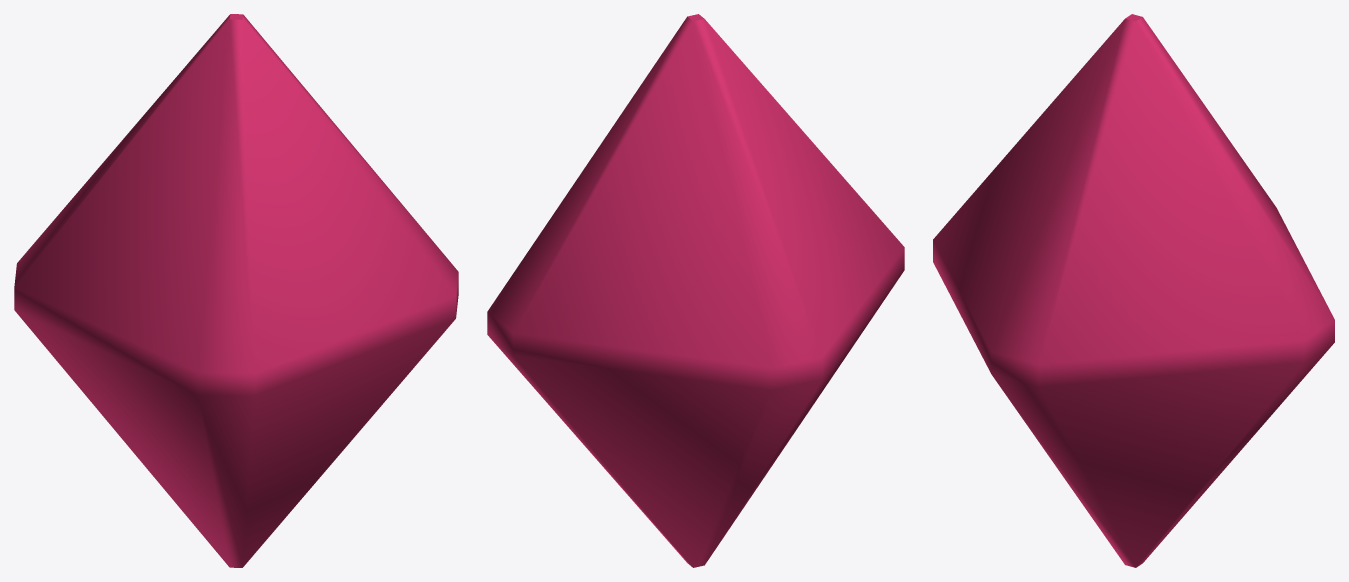
File: Gem_Pink.fbx
3 renders of one model, left to right at view 1: azimuth 30°, elevation 25°; view 2: azimuth 150°, elevation 25°; view 3: azimuth 270°, elevation 25°, orthographic.
Parts seen in each view (by area): view 1: Gem_Pink; view 2: Gem_Pink; view 3: Gem_Pink.
Boxes of the visible parts, x1,y1,x2,y2 form: Gem_Pink: (14, 14, 458, 567); Gem_Pink: (487, 14, 904, 567); Gem_Pink: (933, 14, 1334, 567).
Bounding box in the file's own units: 92.19 × 138 × 92.19.
